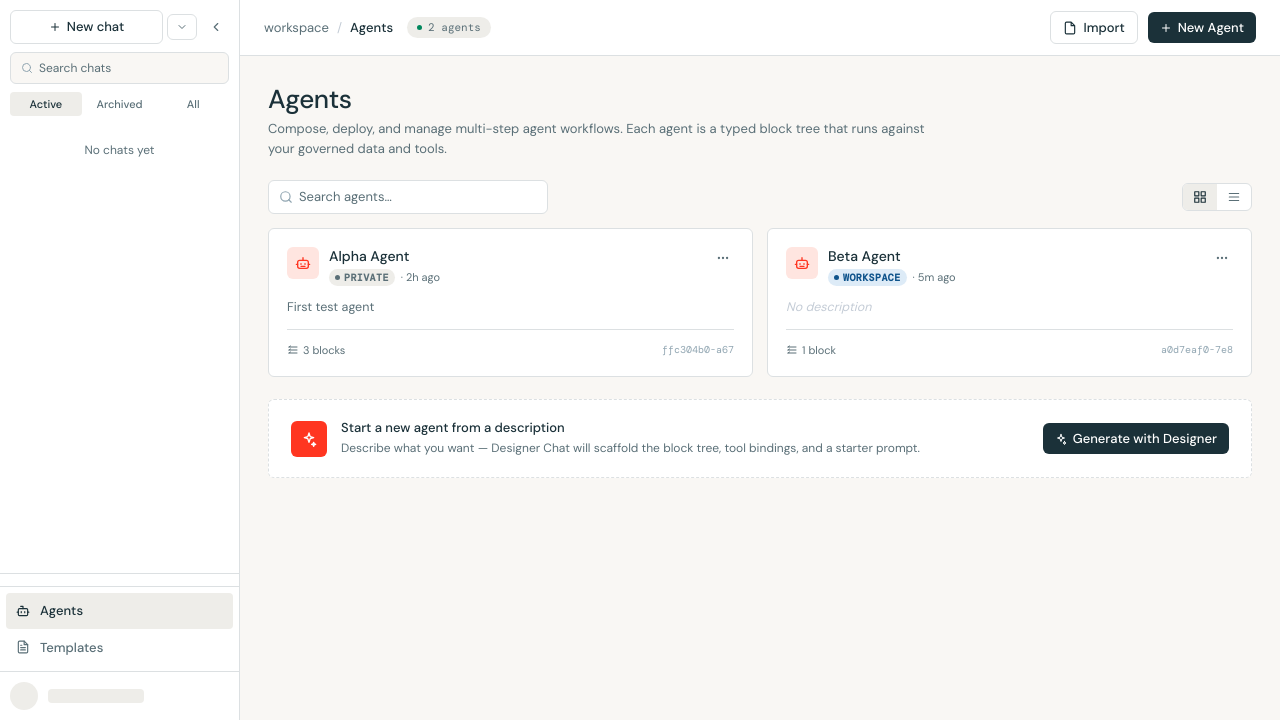
it: AgentDesignerListPage › generic delete errors do not close the dialog silently
Click the button named "actions for alpha agent" at x=723, y=258, box top-left (712, 247), bottom-right (734, 269)
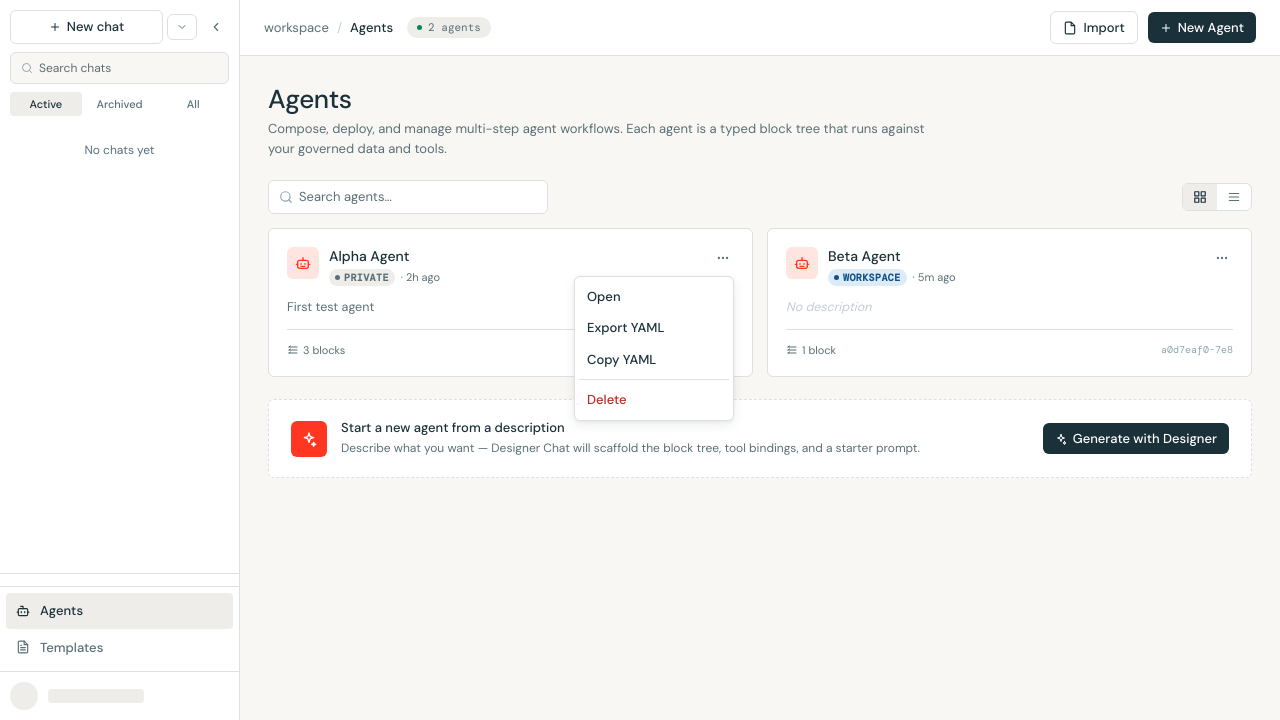
Click the button "Delete" at x=654, y=400, box top-left (579, 384), bottom-right (729, 416)
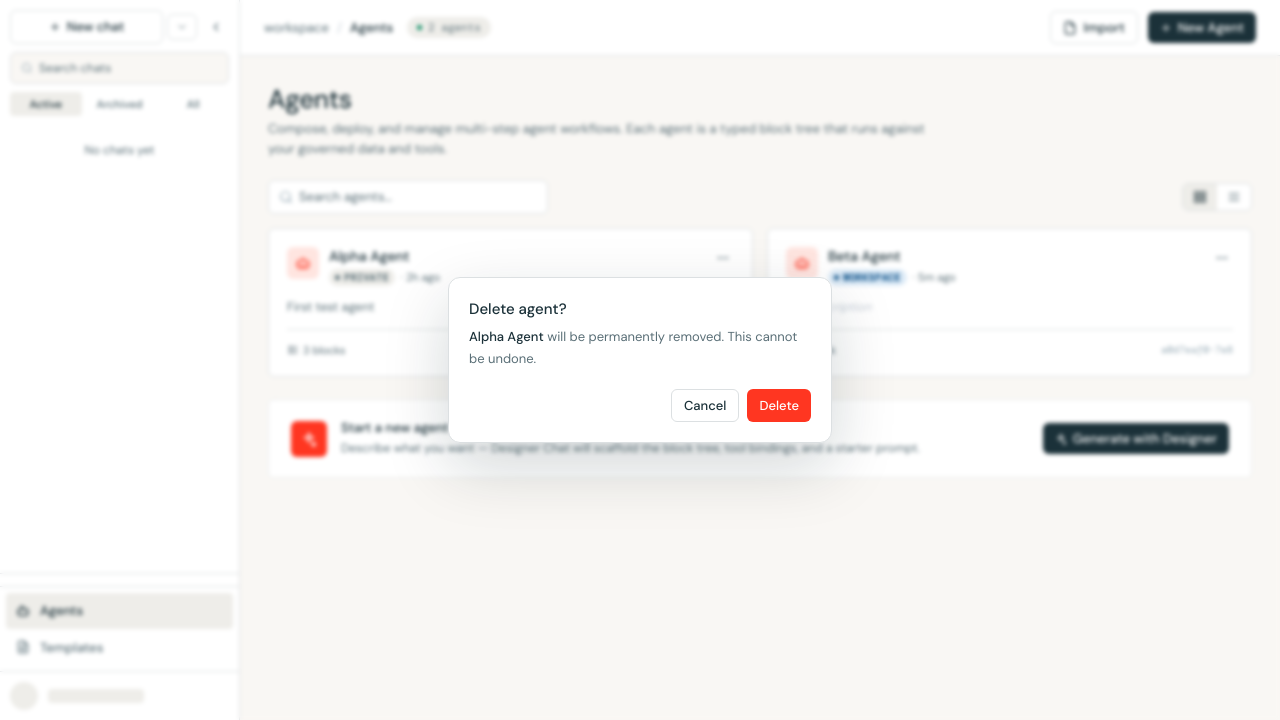
Check: the dialog is shown, box top-left (448, 277), bottom-right (832, 443)
Click the button "Delete" at x=779, y=405, box top-left (747, 389), bottom-right (811, 422)
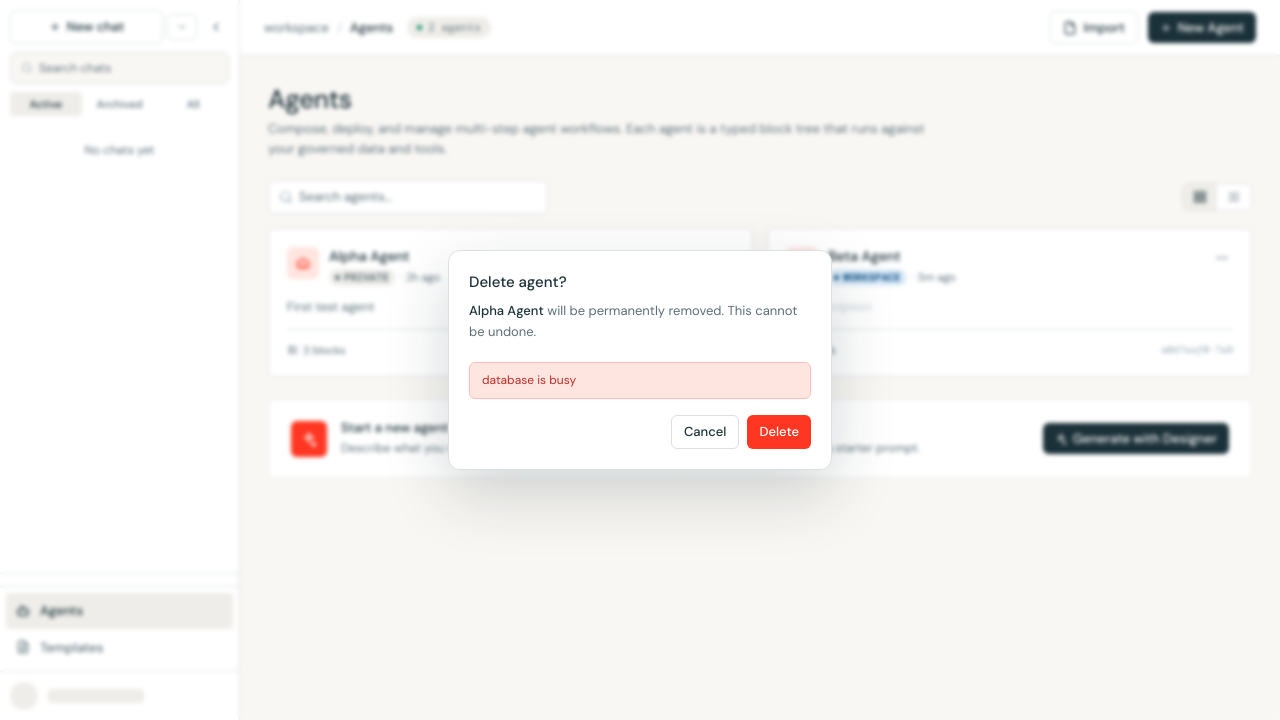
Check: the dialog is shown, box top-left (448, 250), bottom-right (832, 470)
Check: the text "database is busy" is shown, box top-left (469, 362), bottom-right (811, 399)
